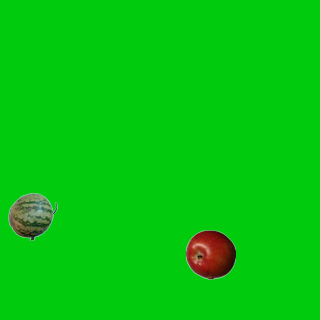Apple Braeburn: (185, 229, 235, 279)
Watermelon: (7, 191, 57, 241)
